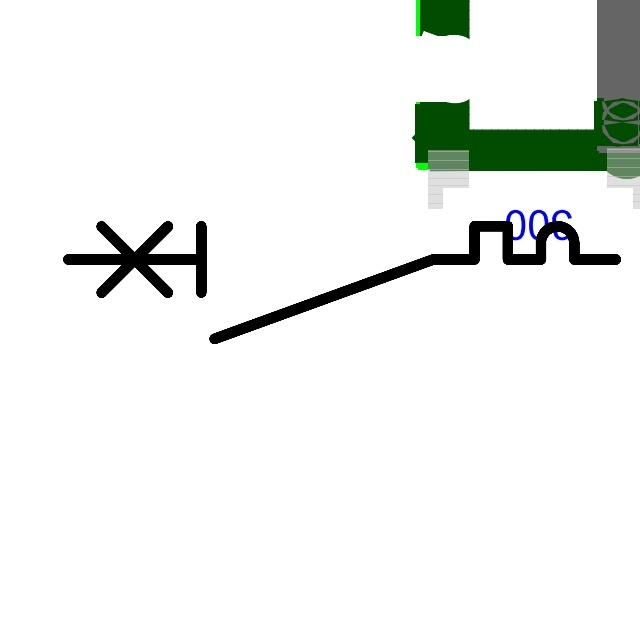interruptor_termomagnetico: (54, 212, 630, 353)
